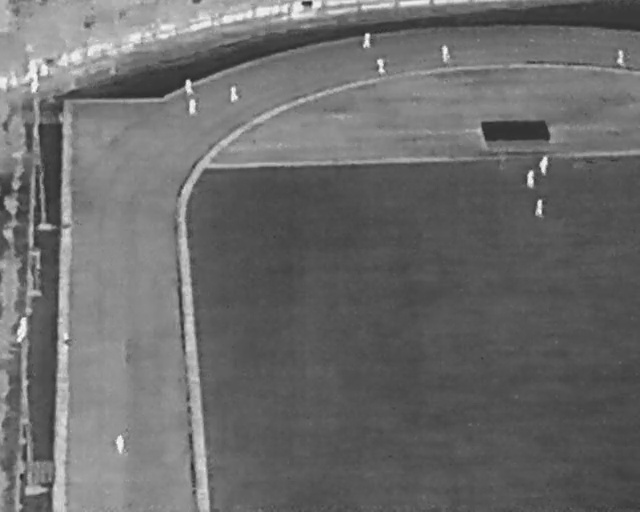Person: (115, 433, 125, 455), (62, 331, 71, 354), (539, 155, 548, 176), (229, 84, 239, 102), (534, 197, 543, 216), (441, 43, 449, 63), (527, 168, 535, 188), (377, 58, 386, 75), (185, 77, 193, 95), (189, 98, 197, 116), (363, 31, 371, 48), (617, 48, 624, 65)
